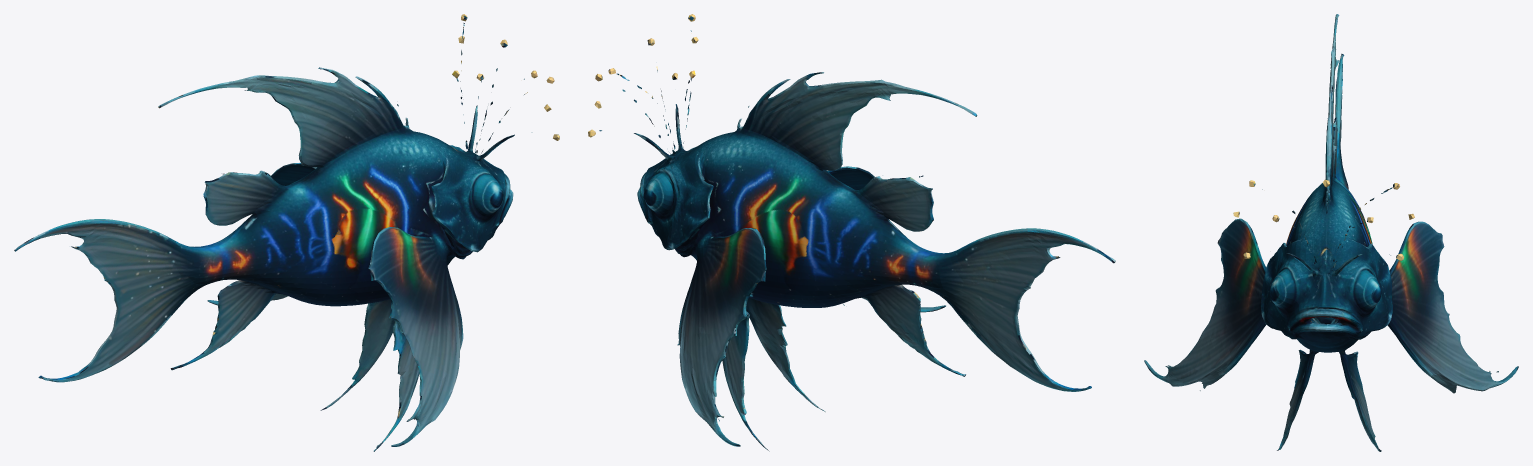
The model's file is Angler2_fish.glb.
3 renders of one model, left to right at view 1: azimuth 30°, elevation 25°; view 2: azimuth 150°, elevation 25°; view 3: azimuth 270°, elevation 25°, orthographic. The views are drawn at different scales.
Visible parts, largest first — view 1: tripo_node_5d4f5626-91b0-47b6-bb60-bb2d56be2497; view 2: tripo_node_5d4f5626-91b0-47b6-bb60-bb2d56be2497; view 3: tripo_node_5d4f5626-91b0-47b6-bb60-bb2d56be2497.
Part boxes in pixels (left/top/right/bottom): tripo_node_5d4f5626-91b0-47b6-bb60-bb2d56be2497: left=14, top=14, right=559, bottom=451; tripo_node_5d4f5626-91b0-47b6-bb60-bb2d56be2497: left=588, top=14, right=1115, bottom=451; tripo_node_5d4f5626-91b0-47b6-bb60-bb2d56be2497: left=1144, top=14, right=1518, bottom=451.
Size of the model in its own units: 1 by 0.7085 by 0.6689.
1 material, 1 textured.
